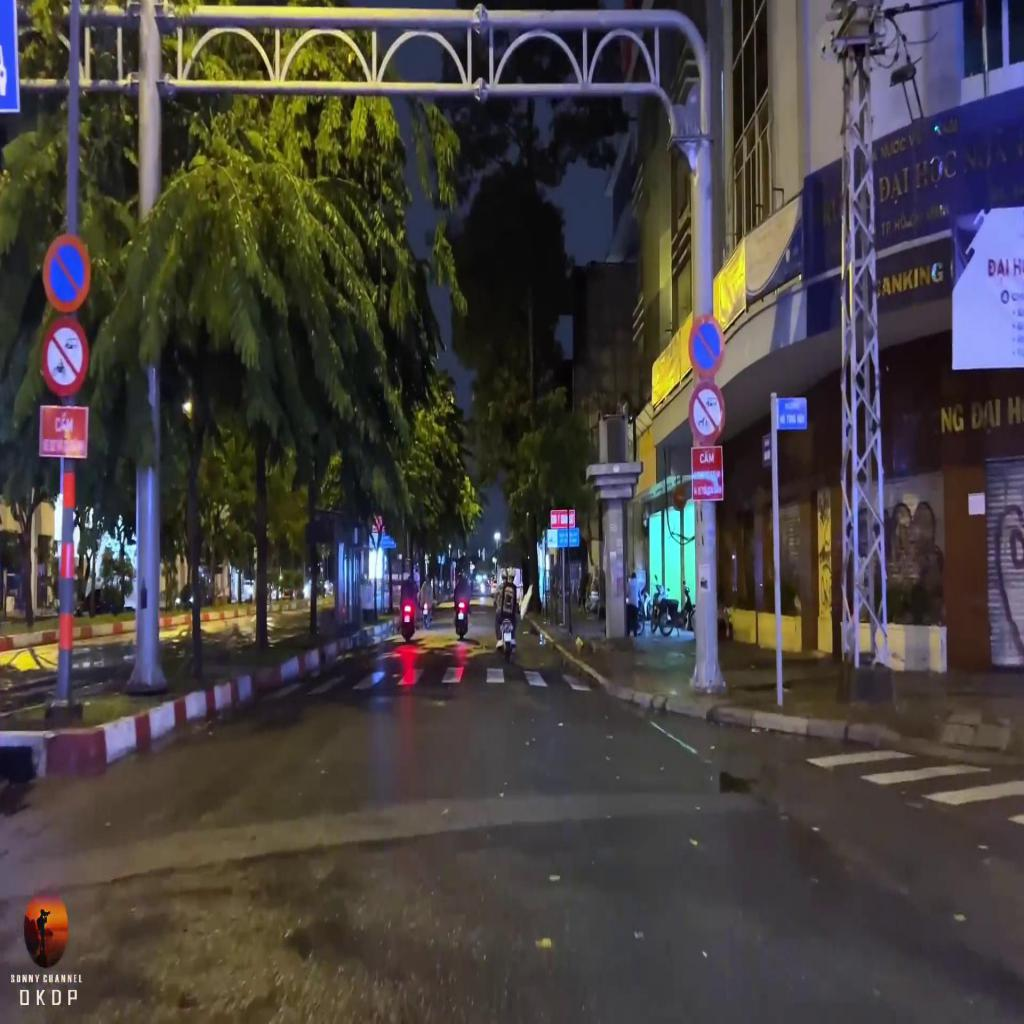cam_cac_loai_xe_3_banh: (688, 382, 726, 445)
cam_dung_xe_va_do_xe: (43, 231, 90, 314), (690, 315, 725, 378)
cam_xe_2_banh_va_xe_3_banh_co_dong_co: (41, 316, 89, 397)
